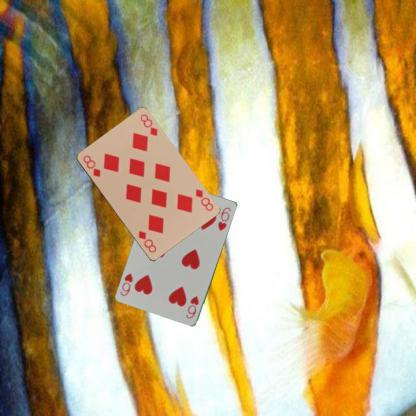6h: (184, 294, 200, 320)
8d: (80, 152, 102, 178), (192, 186, 214, 212)
